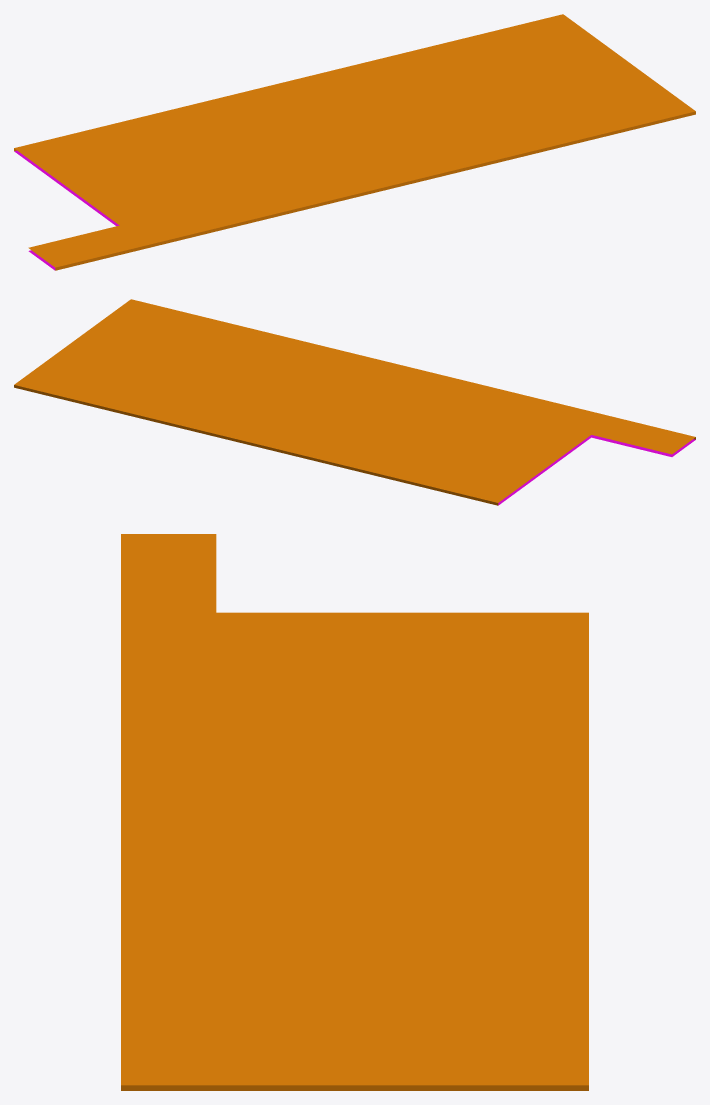
File: W_01_Roof_01.fbx
3 renders of one model, top to bottom at view 1: azimuth 30°, elevation 25°; view 2: azimuth 150°, elevation 25°; view 3: azimuth 270°, elevation 25°, orthographic. The views are drawn at different scales.
Parts seen in each view (by area): view 1: W_01_Roof_01; view 2: W_01_Roof_01; view 3: W_01_Roof_01.
Boxes of the visible parts, x1,y1,x2,y2 form: W_01_Roof_01: (14, 14, 695, 270); W_01_Roof_01: (14, 299, 695, 505); W_01_Roof_01: (121, 534, 588, 1090).
Bounding box in the file's own units: 2101 × 9.88 × 754.
